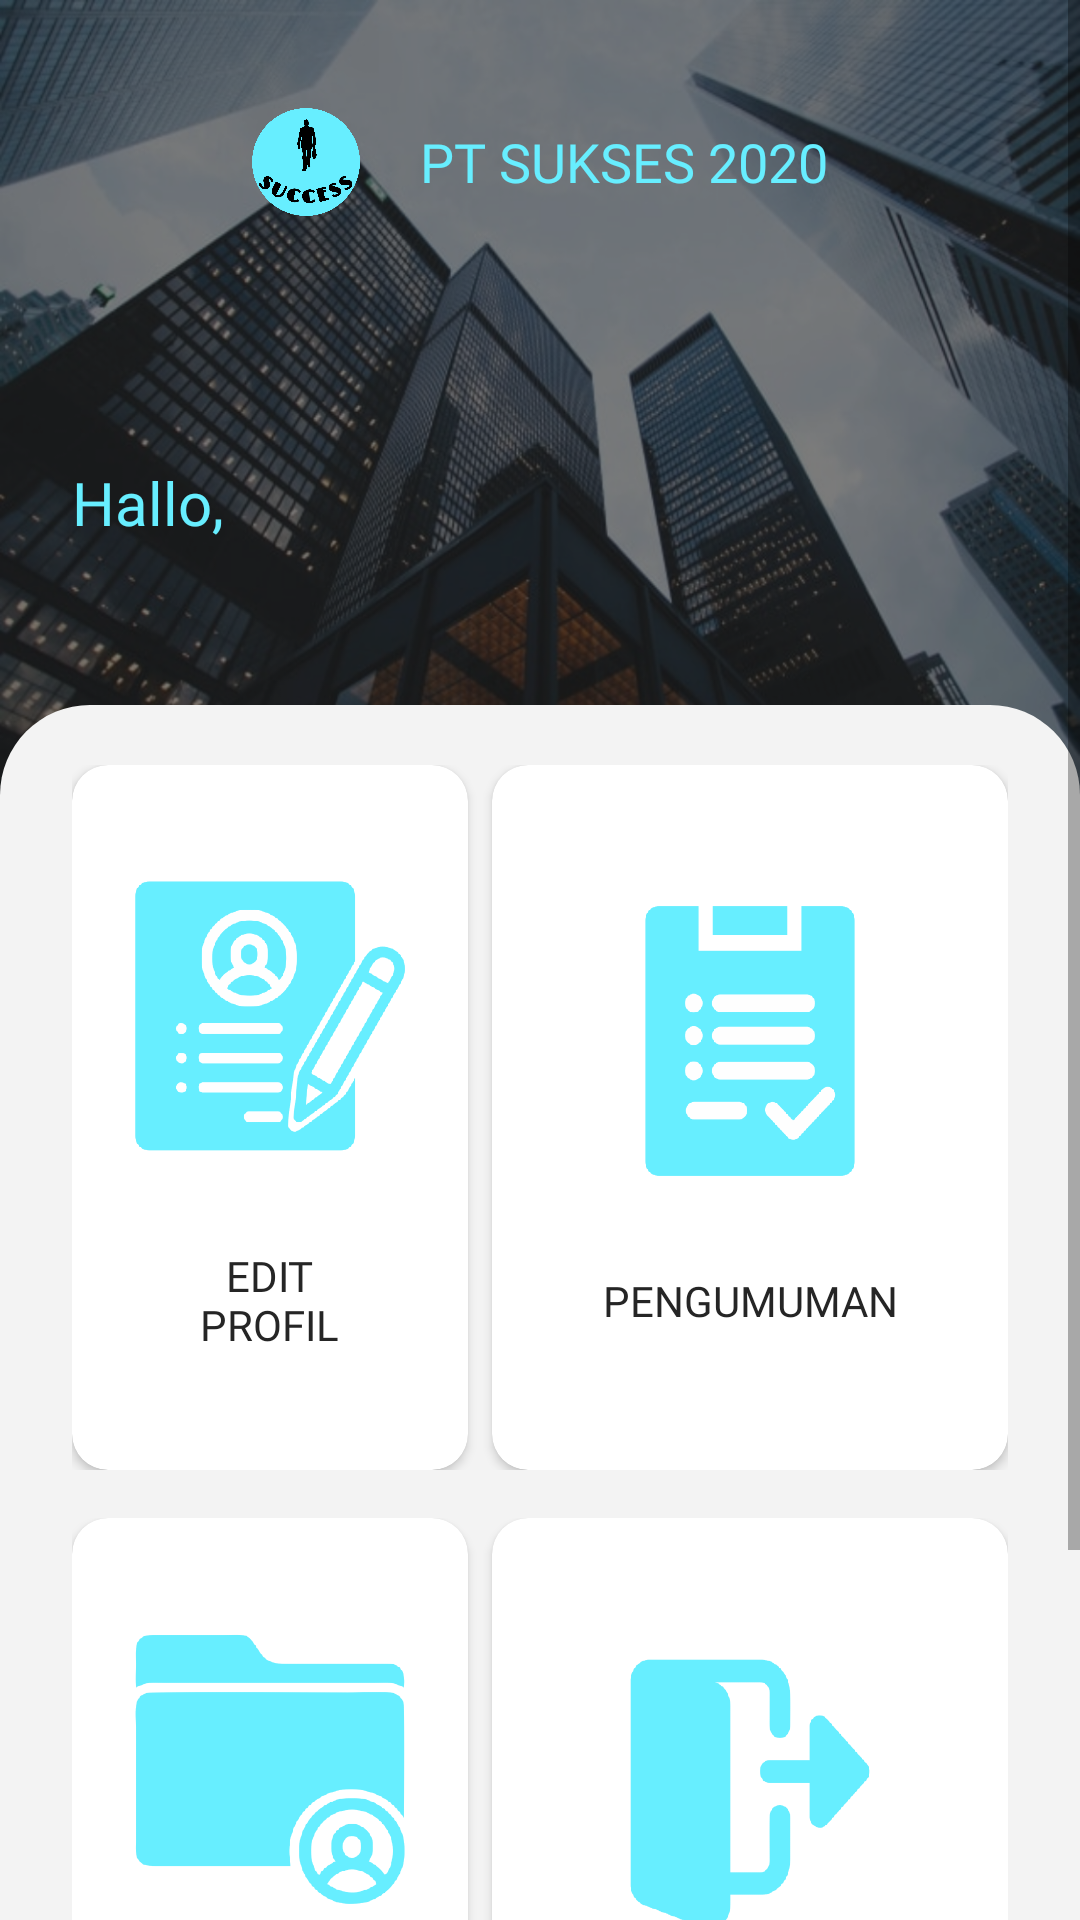

Where icons sit on this 1080*1920 app screen, as (x1, y1, x2, y2):
data pegawai: (135, 1635, 405, 1904)
